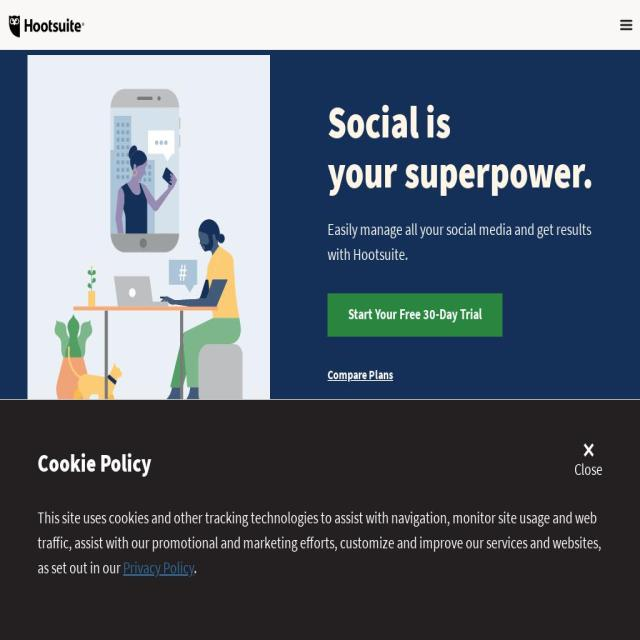button: (328, 293, 502, 337), (574, 443, 602, 482), (620, 16, 632, 33)
heading: (48, 503, 448, 544), (328, 143, 593, 200), (328, 93, 450, 150), (448, 503, 592, 544), (37, 440, 152, 485), (8, 13, 86, 39)
image: (28, 55, 270, 439), (342, 598, 451, 640), (65, 607, 214, 633), (253, 587, 302, 640), (491, 607, 575, 633), (620, 16, 632, 33), (583, 443, 594, 457)
link: (123, 556, 194, 578), (328, 366, 393, 382)
text: (38, 507, 602, 578), (328, 216, 612, 266), (574, 456, 602, 482), (194, 556, 197, 578)
